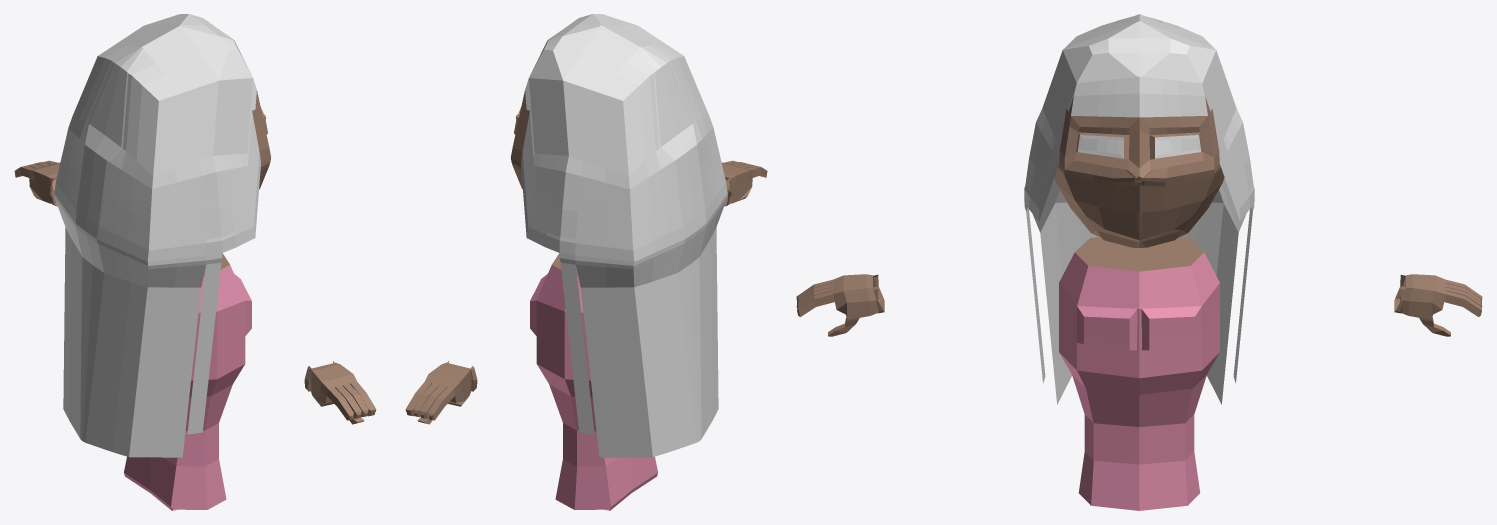
The model's file is female1.fbx.
The picture shows the model from 3 angles, left to right: view 1: azimuth 30°, elevation 25°; view 2: azimuth 150°, elevation 25°; view 3: azimuth 270°, elevation 25°; orthographic projection. The views are drawn at different scales.
Visible parts, largest first — view 1: Cube.003; view 2: Cube.003; view 3: Cube.003.
Part boxes in pixels (<box>): Cube.003: <box>14,14,376,510</box>; Cube.003: <box>405,14,767,510</box>; Cube.003: <box>796,14,1482,510</box>.
Size of the model in its own units: 344 by 833 by 1093.
